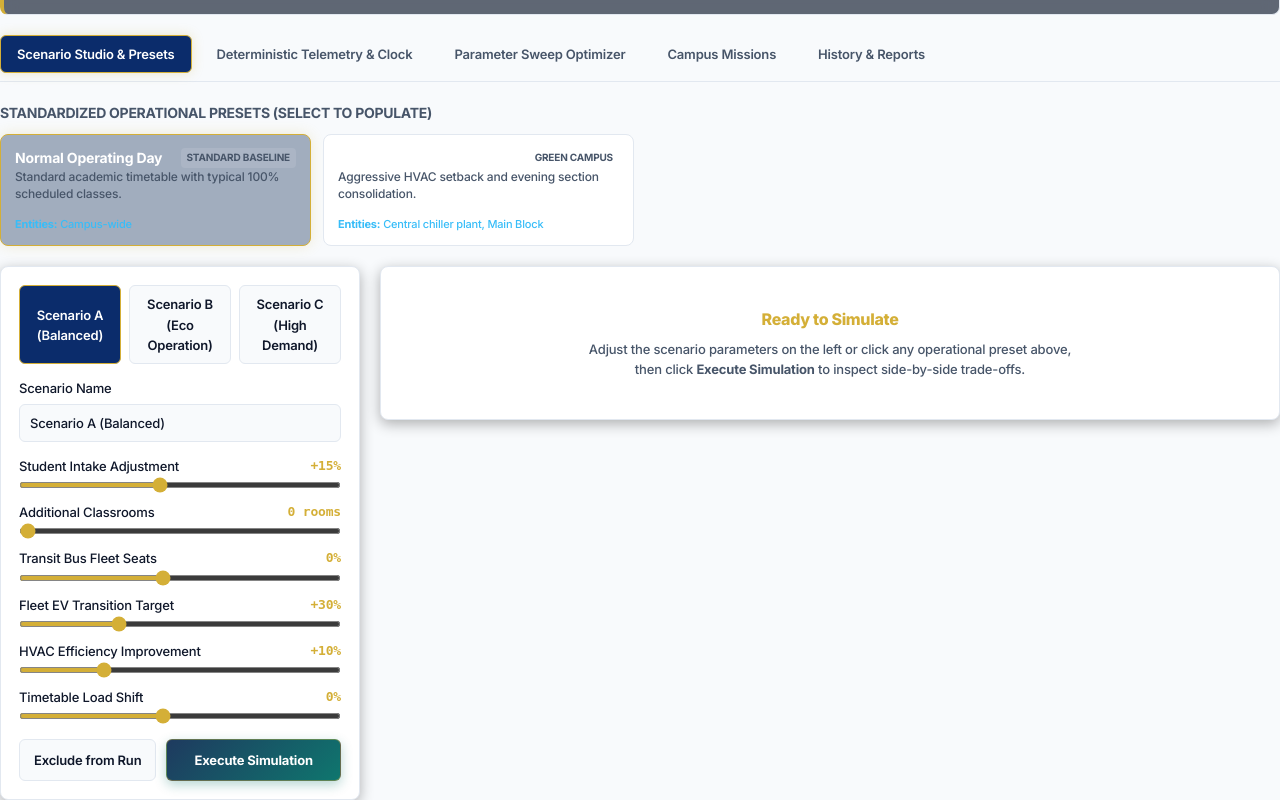
Test: SimulationLab Smart Campus Intelligence Studio › executes simulation and displays multi-objective comparison matrix
The width and height of the screenshot is (1280, 800).
(page scrolled)
Step 1. Click the button "Execute Simulation" → [254, 760], box [166,739,341,781]
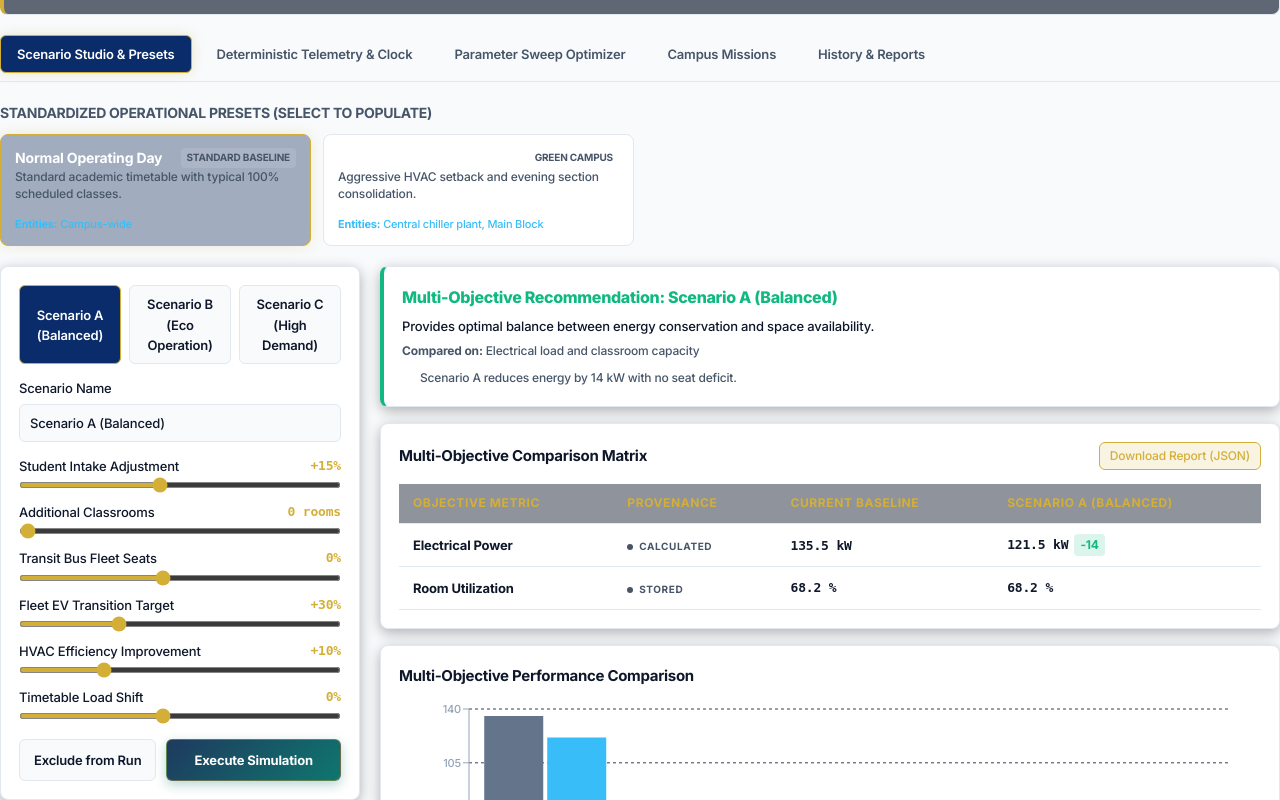
Result: the heading "Multi-Objective Recommendation: Scenario A (Balanced)" is shown at [402,288,838,308]
Result: the heading "Multi-Objective Comparison Matrix" is shown at [399,444,647,468]
Result: the text "-14" is shown at [1074,534,1105,556]
